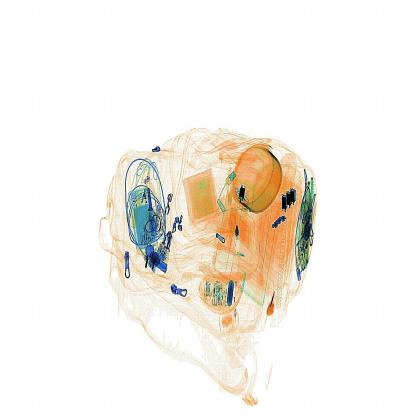wrench: (263, 290, 282, 322)
